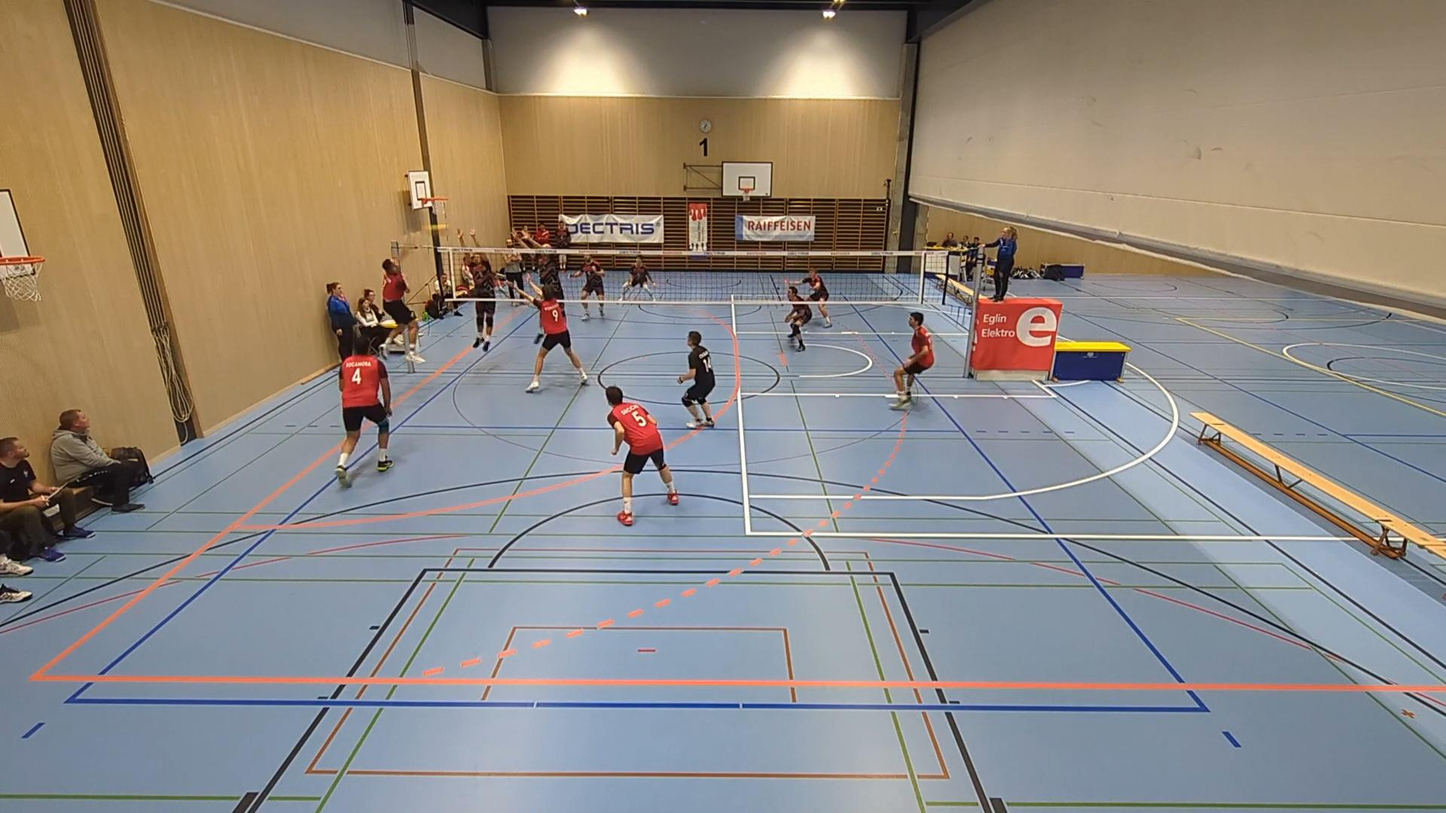attacco: (373, 241, 427, 358)
muro: (449, 223, 501, 355), (517, 227, 568, 311)
